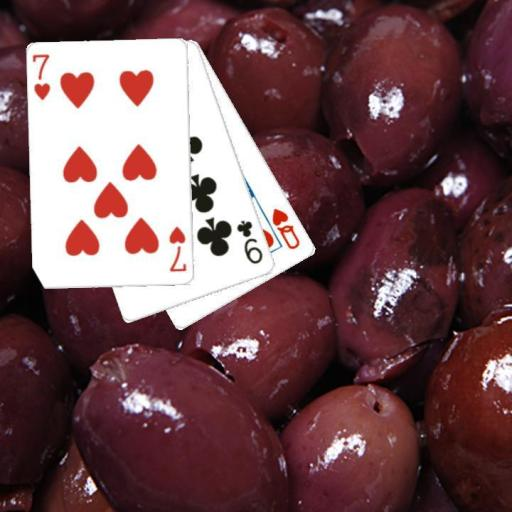card-corner: (233, 217, 265, 266), (269, 205, 302, 252), (166, 223, 188, 274), (30, 51, 52, 102)
